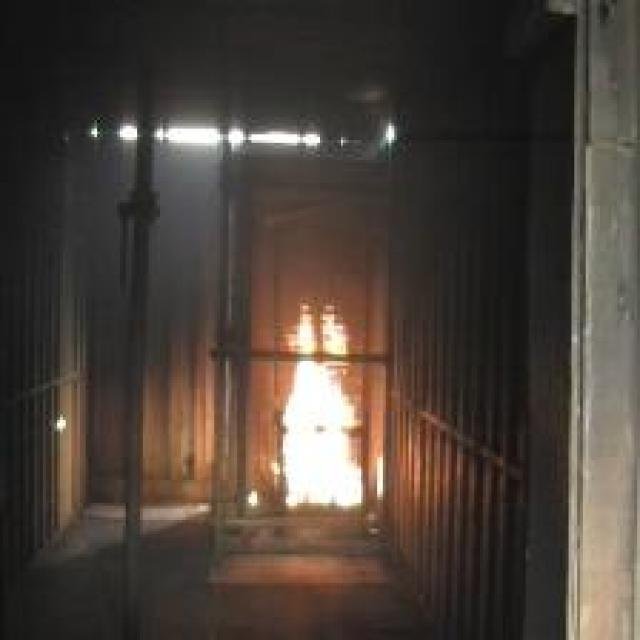Fire: (280, 304, 363, 507)
